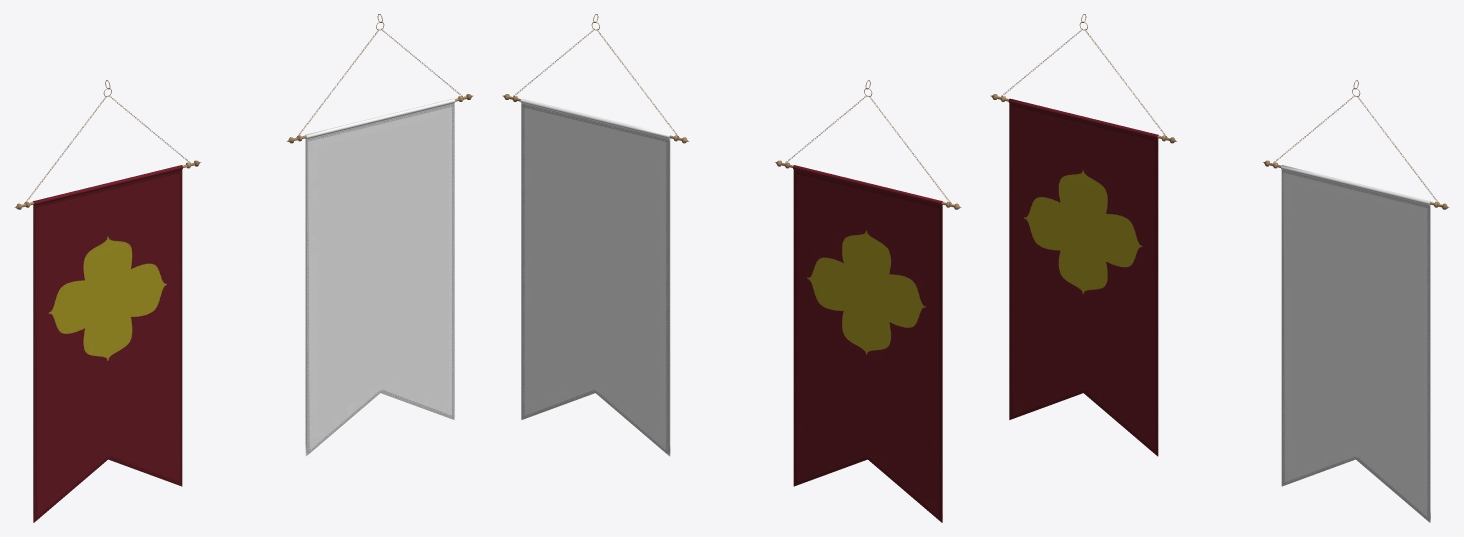
Rendered from hangbanner.glb.
3 views of the same model, side by side, from view 1: azimuth 30°, elevation 25°; view 2: azimuth 150°, elevation 25°; view 3: azimuth 330°, elevation 25° (orthographic).
Parts seen in each view (by area): view 1: Object_6, Object_4; view 2: Object_6, Object_4; view 3: Object_4, Object_6.
Part boxes in pixels (x1,y1,x2,y2): Object_6: (287, 14, 473, 456); Object_4: (14, 80, 200, 522); Object_6: (502, 14, 688, 456); Object_4: (775, 80, 961, 522); Object_4: (990, 14, 1176, 456); Object_6: (1263, 80, 1449, 522).
Bounding box in the file's own units: 7.42 × 6.55 × 0.1383.
Materials: 2 (2 with a texture image).
